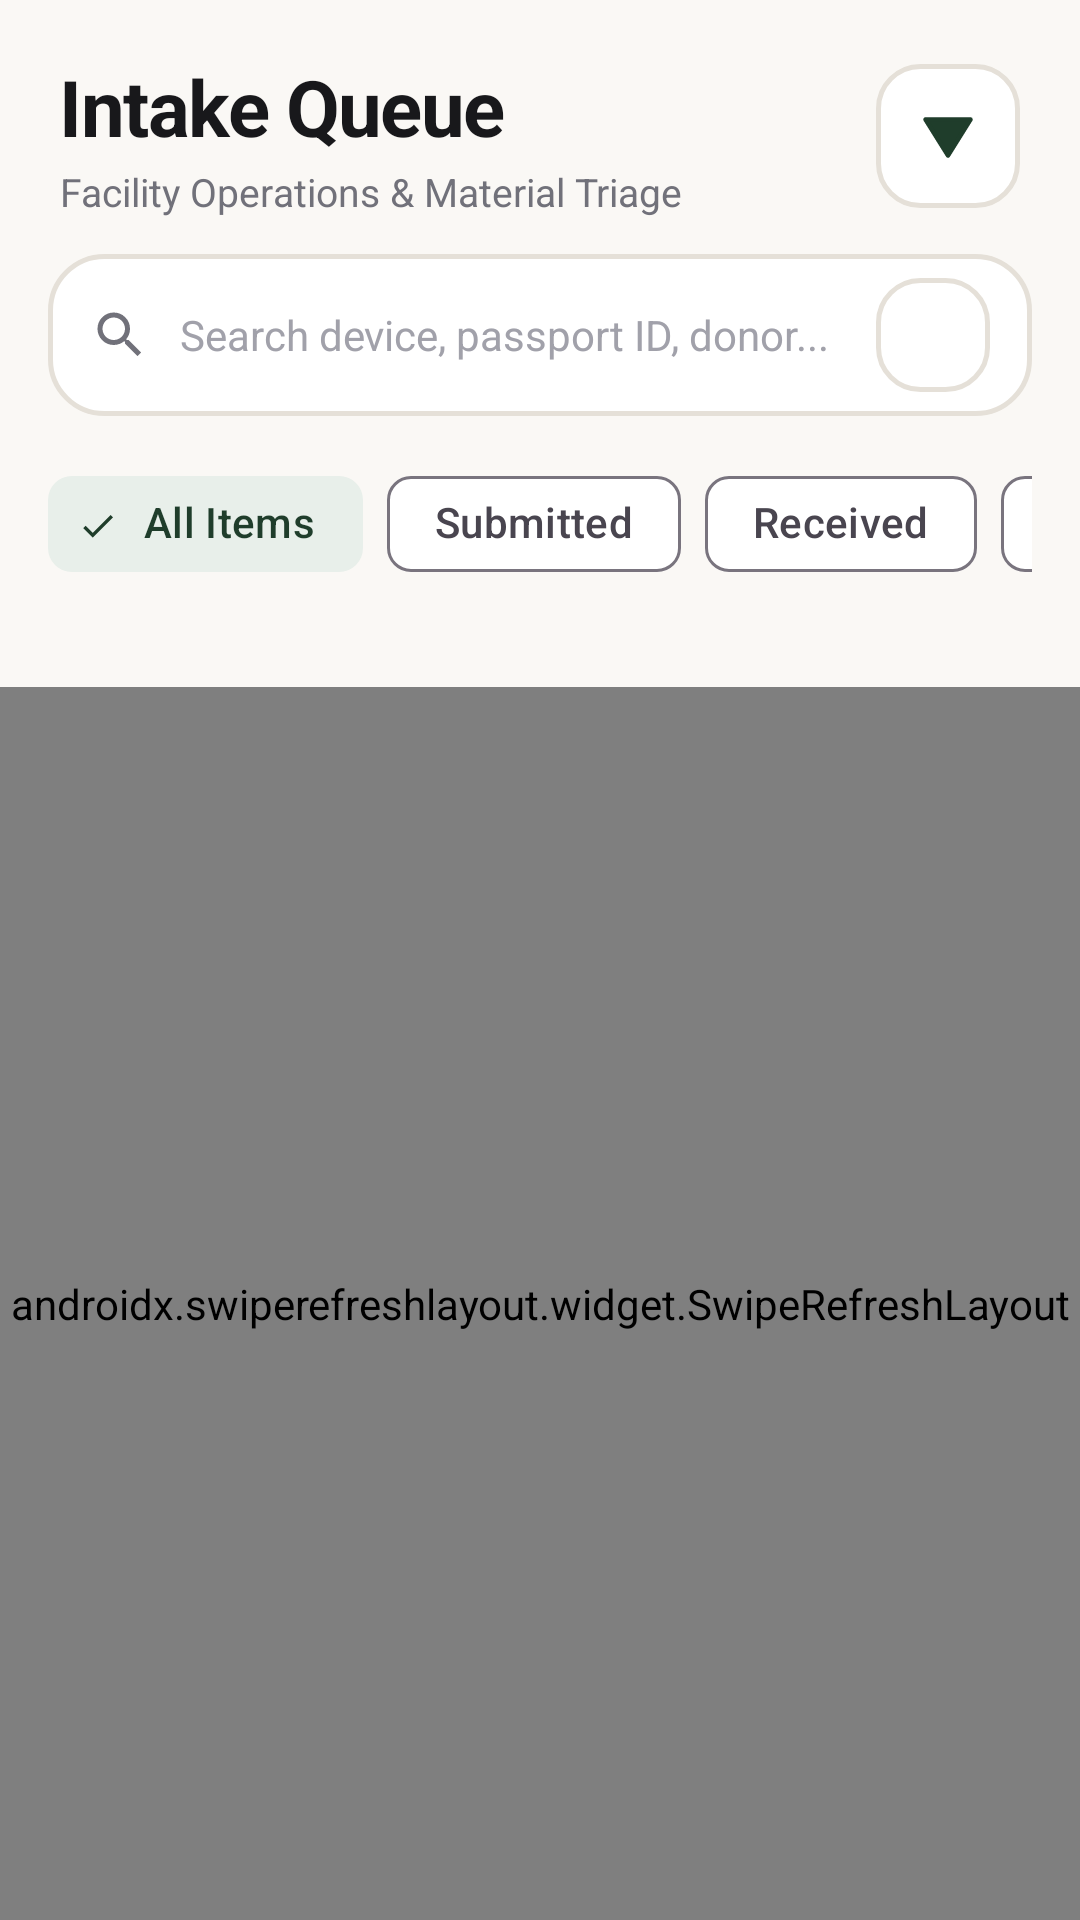

Locate icon controls on the screen. Image size 1080 x 1920, boxes as (x1, y1, x2, y2).
Quick Action Menu: (876, 64, 1020, 208)
